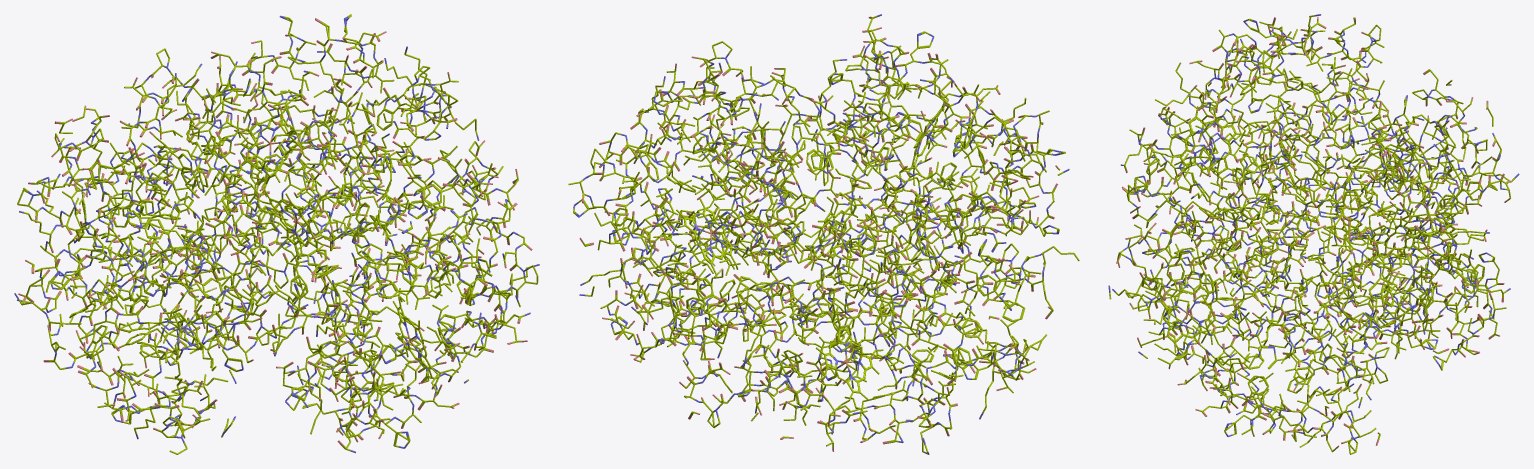
The model's file is 4hhb__lines__default.glb.
The picture shows the model from 3 angles, left to right: view 1: azimuth 30°, elevation 25°; view 2: azimuth 150°, elevation 25°; view 3: azimuth 270°, elevation 25°; orthographic projection. The views are drawn at different scales.
Parts seen in each view (by area): view 1: Renderer Node; view 2: Renderer Node; view 3: Renderer Node.
Part boxes in pixels (<box>): Renderer Node: <box>14,14,539,454</box>; Renderer Node: <box>568,14,1079,454</box>; Renderer Node: <box>1108,14,1519,454</box>.
Bounding box in the file's own units: 65.55 × 57.14 × 57.46.
